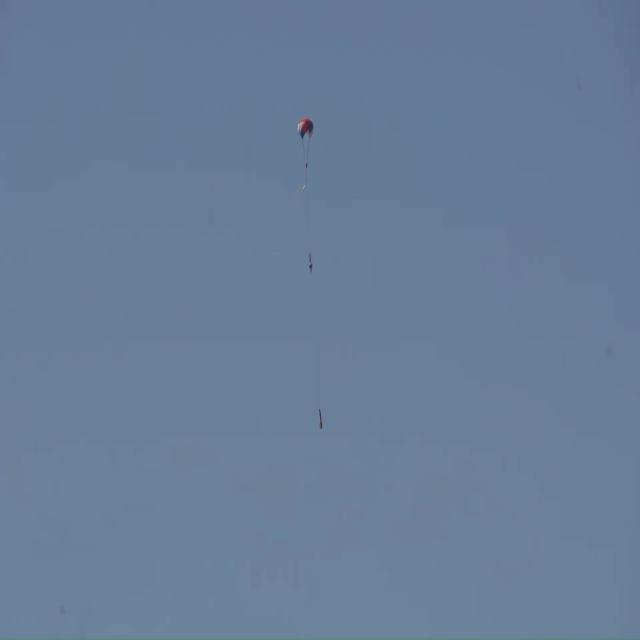Rocket: (319, 410, 323, 430)
